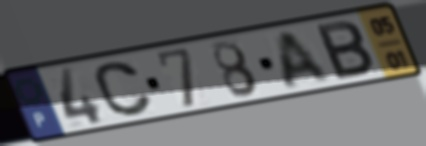4: (56, 65, 108, 128)
7: (152, 45, 201, 110)
8: (211, 40, 261, 99)
A: (278, 28, 335, 92)
B: (313, 18, 377, 83)
C: (92, 60, 157, 119)
